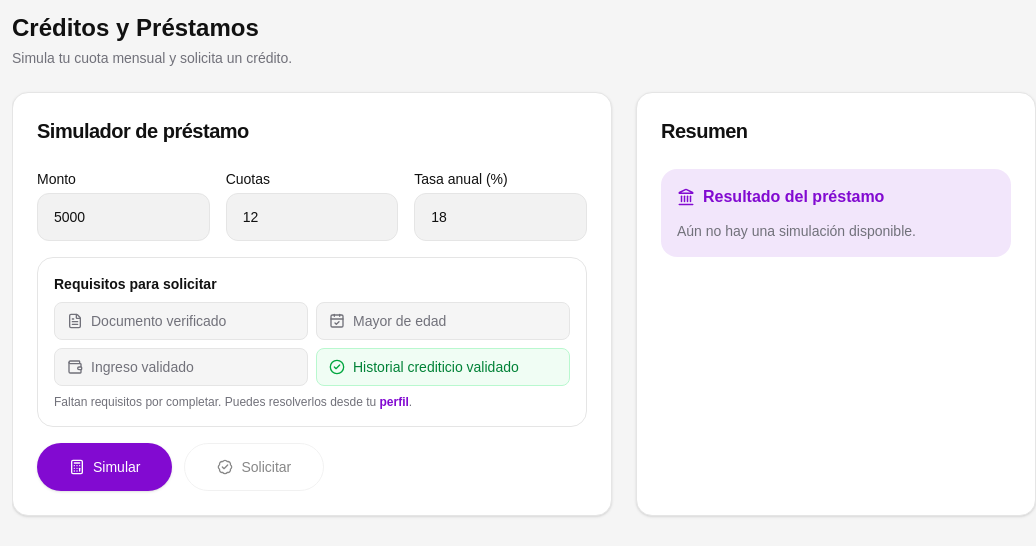
Test: LoansClient › should show fallback on simulate error without message
Step 1. Click the button "Simular" → (105, 467), box [37,443,172,491]
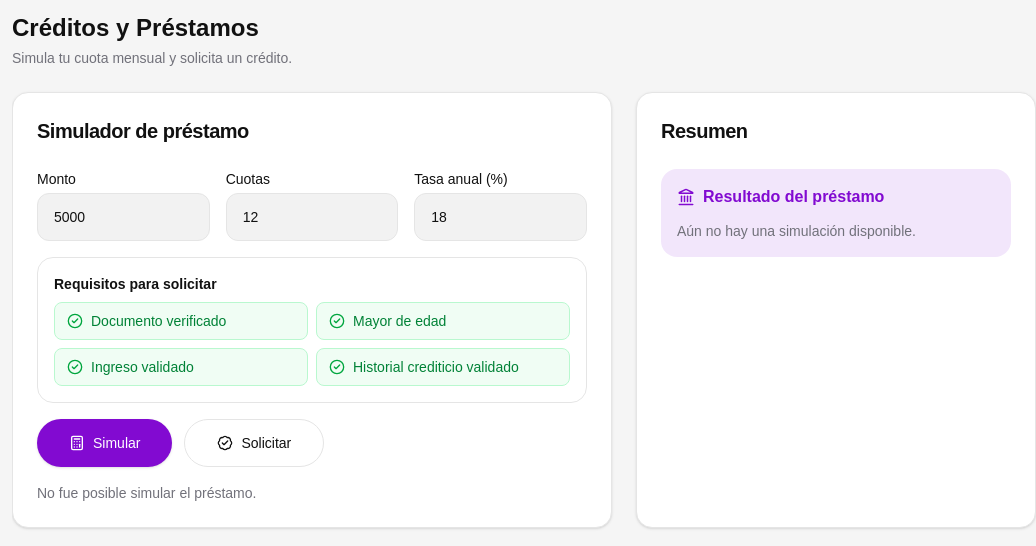
Expected: the text "No fue posible simular el préstamo." is shown, [37,485,256,501]
